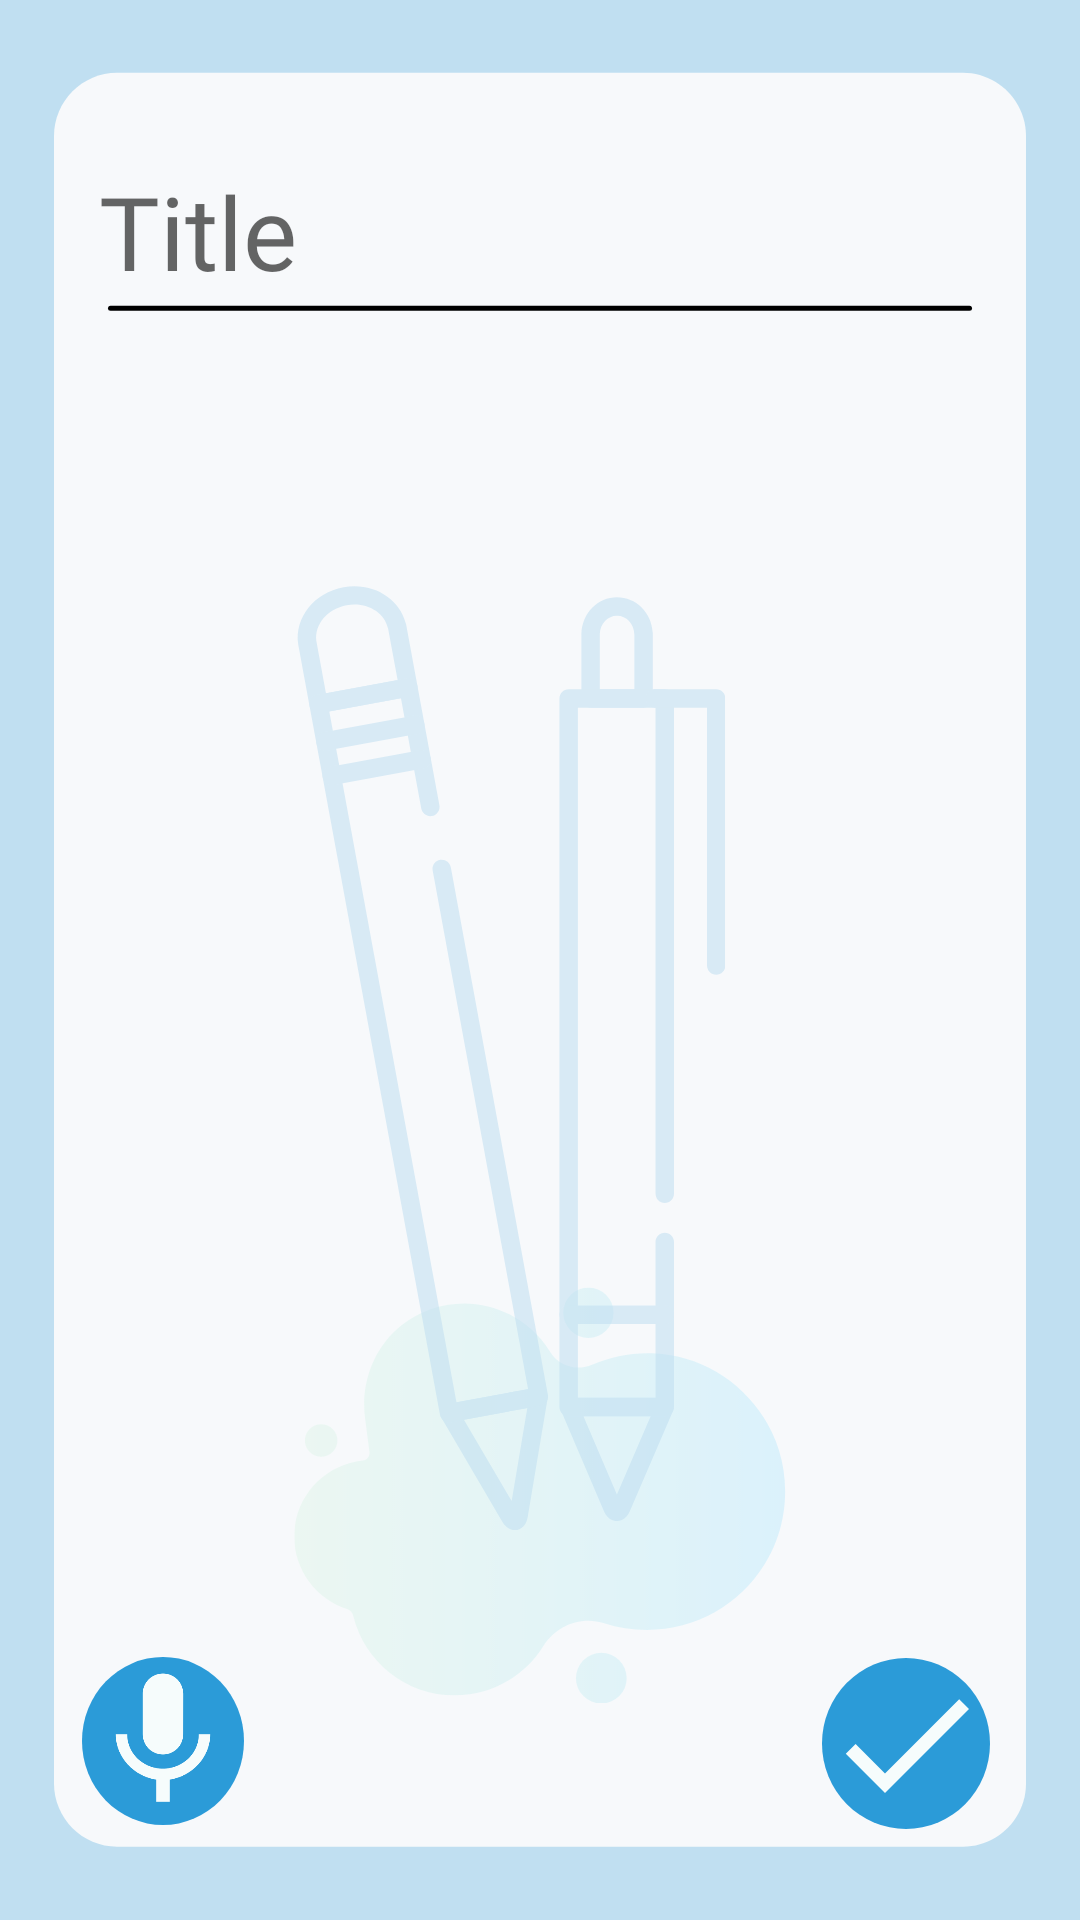

Named icons in this screenshot (1080 x 1920) and their bounding boxes, (x1, y1, x2, y2):
done: (822, 1658, 990, 1829)
mic: (82, 1657, 244, 1825)
